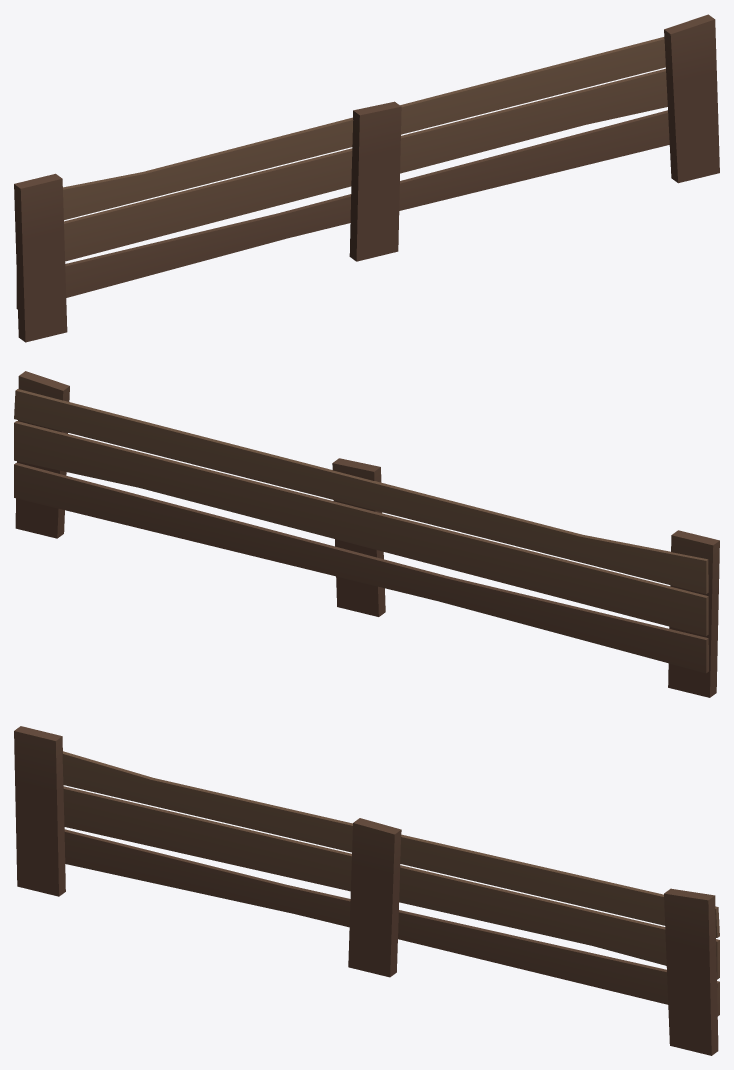
Rendered from WoodFence.glb.
The picture shows the model from 3 angles, top to bottom: view 1: azimuth 30°, elevation 25°; view 2: azimuth 150°, elevation 25°; view 3: azimuth 330°, elevation 25°; orthographic projection.
Parts seen in each view (by area): view 1: WoodFence; view 2: WoodFence; view 3: WoodFence.
Boxes of the visible parts, <box> form: WoodFence: <box>14,14,719,342</box>; WoodFence: <box>14,371,719,697</box>; WoodFence: <box>14,726,719,1055</box>.
Size of what is drawn, in the model's own units: 7.68 by 1.62 by 0.1883.
1 material, 1 textured.
